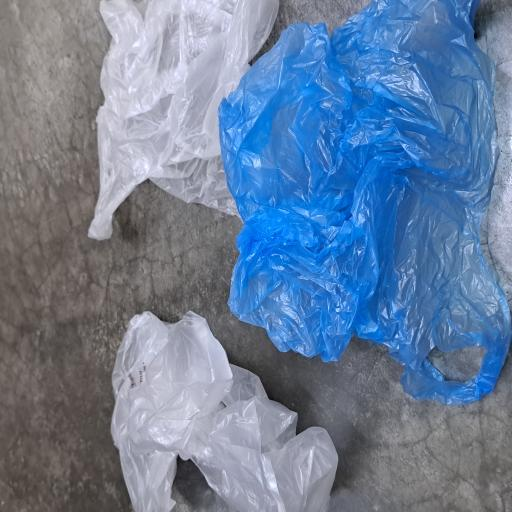plastic bag: (76, 288, 384, 512), (0, 147, 154, 451), (204, 118, 384, 378)
